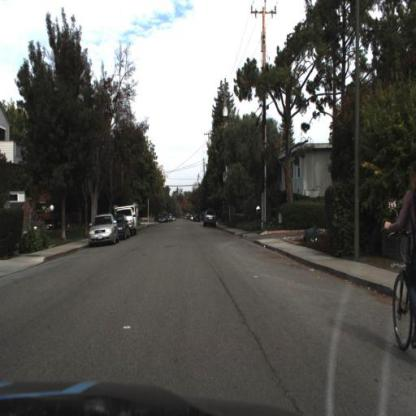biker: (384, 160, 416, 360)
car: (89, 214, 119, 250), (117, 202, 141, 239), (88, 214, 117, 244), (202, 209, 219, 236), (116, 214, 132, 242), (203, 206, 218, 228)
